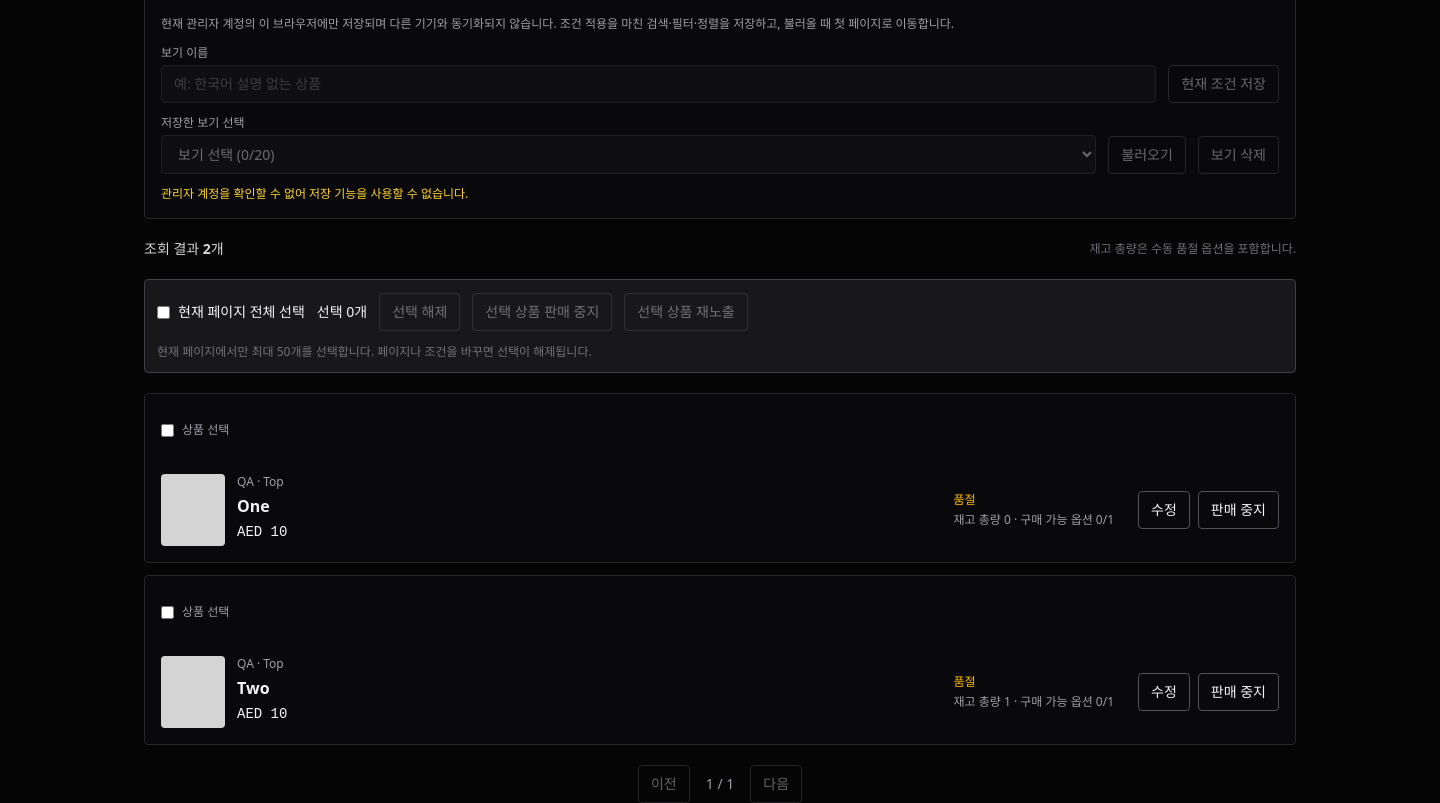
Test: bulk visibility workflow › sends only selected IDs and target then clears selection on success
(page scrolled)
Click the checkbox named "One 선택" at (168, 430), box [161, 424, 174, 436]
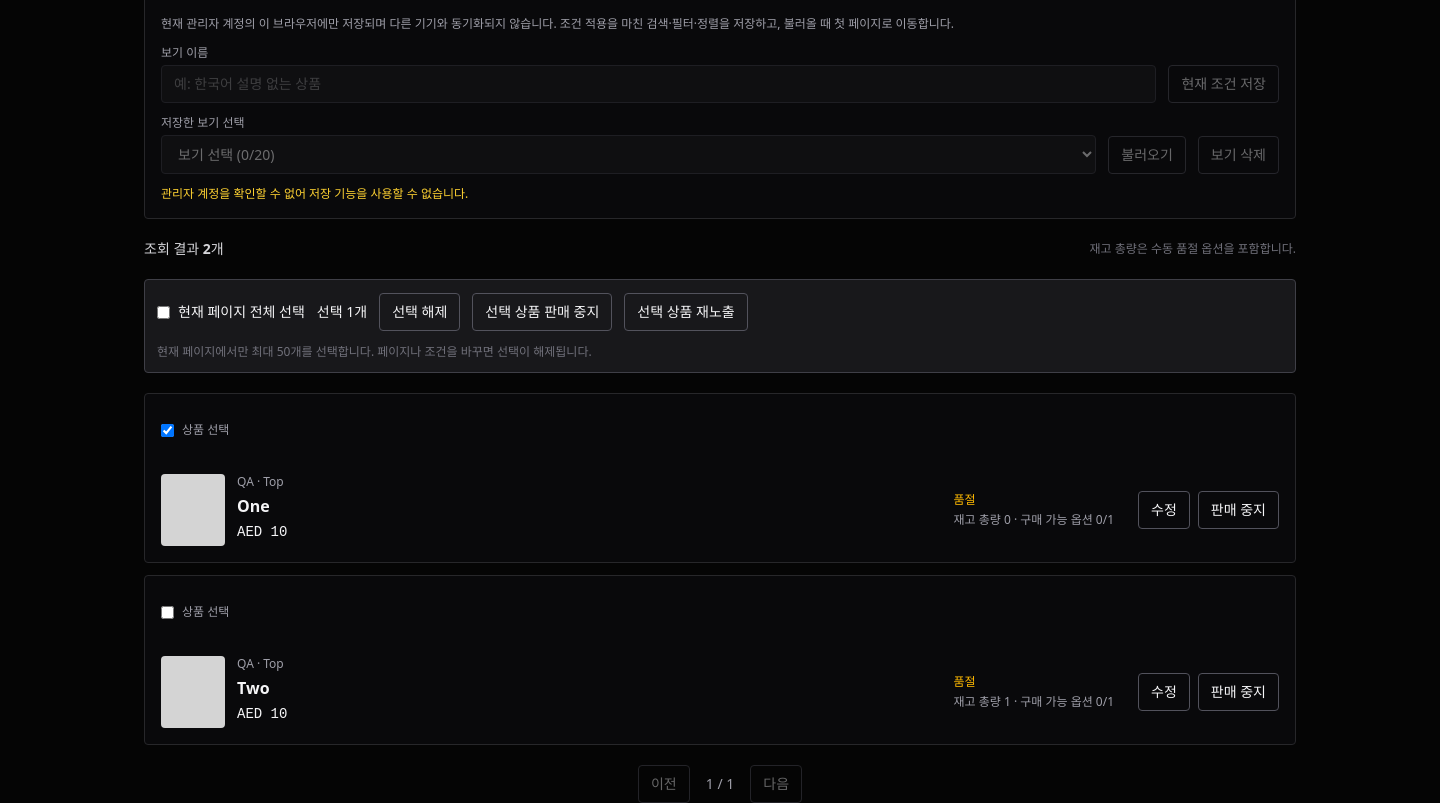
Click the button "선택 상품 재노출" at (686, 312), box [624, 293, 748, 331]
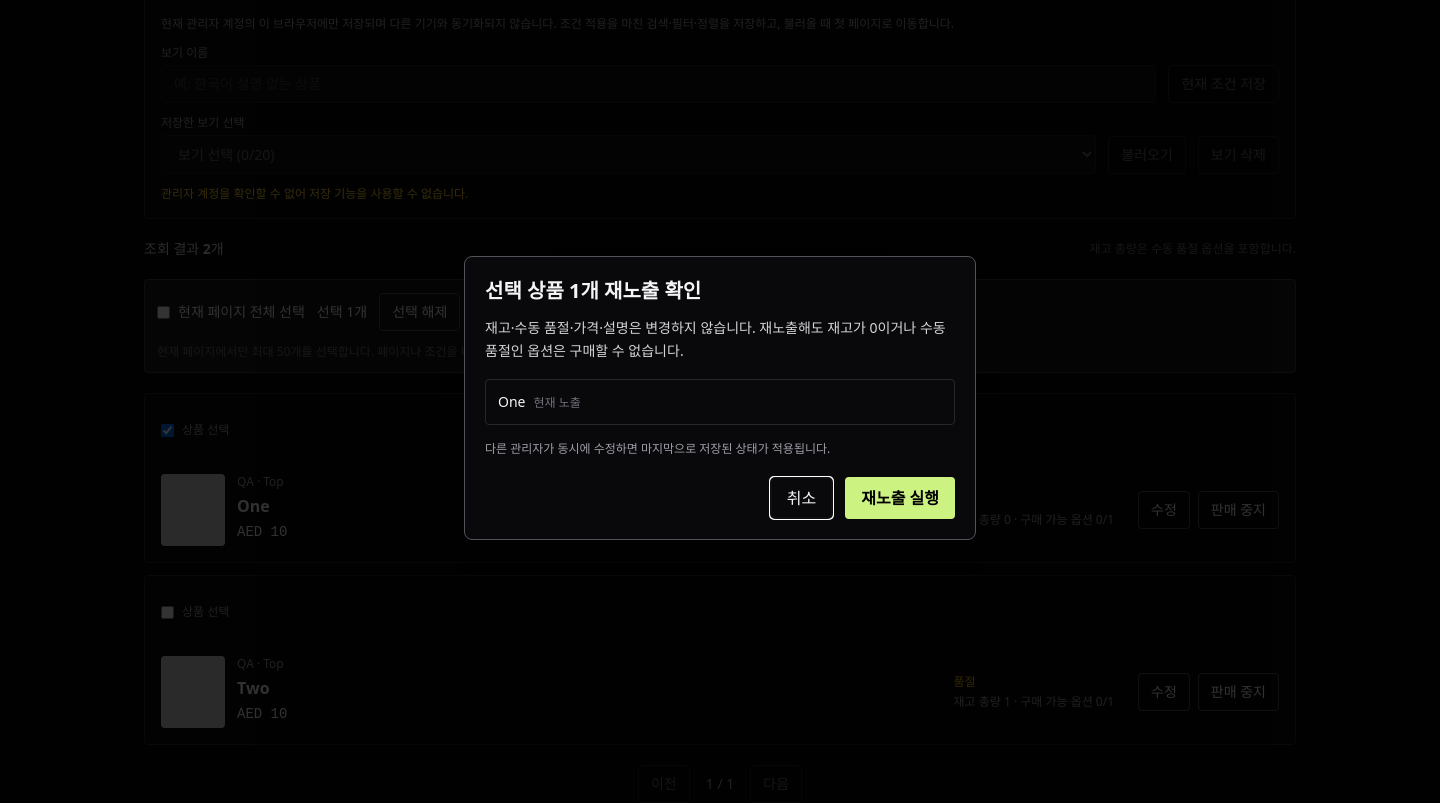
Click the button "재노출 실행" at (900, 498), box [845, 477, 955, 519]
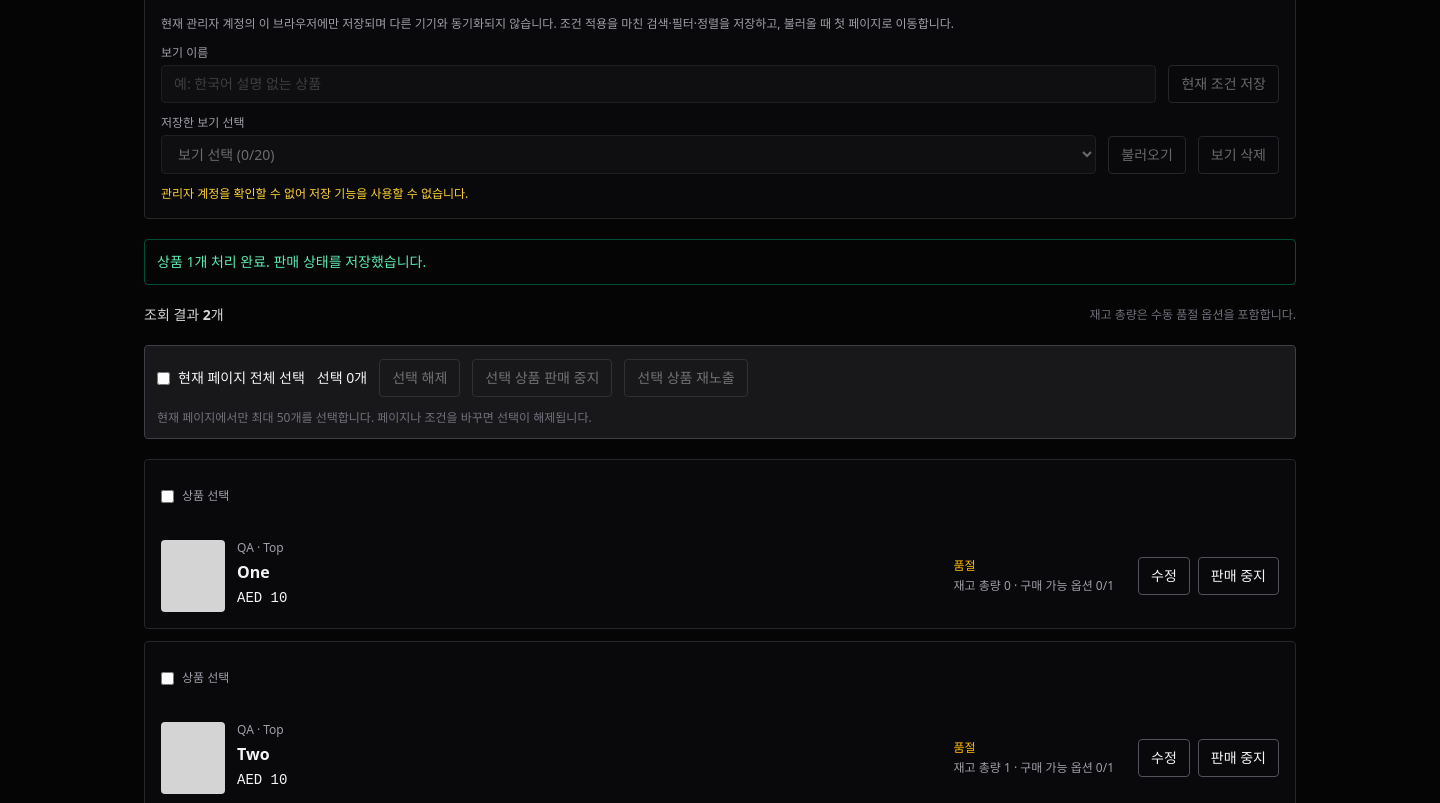
Now the text "선택 0개" is shown, box [317, 368, 367, 388]
